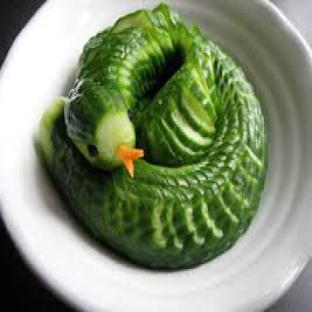Cucumber: (39, 4, 267, 269)
